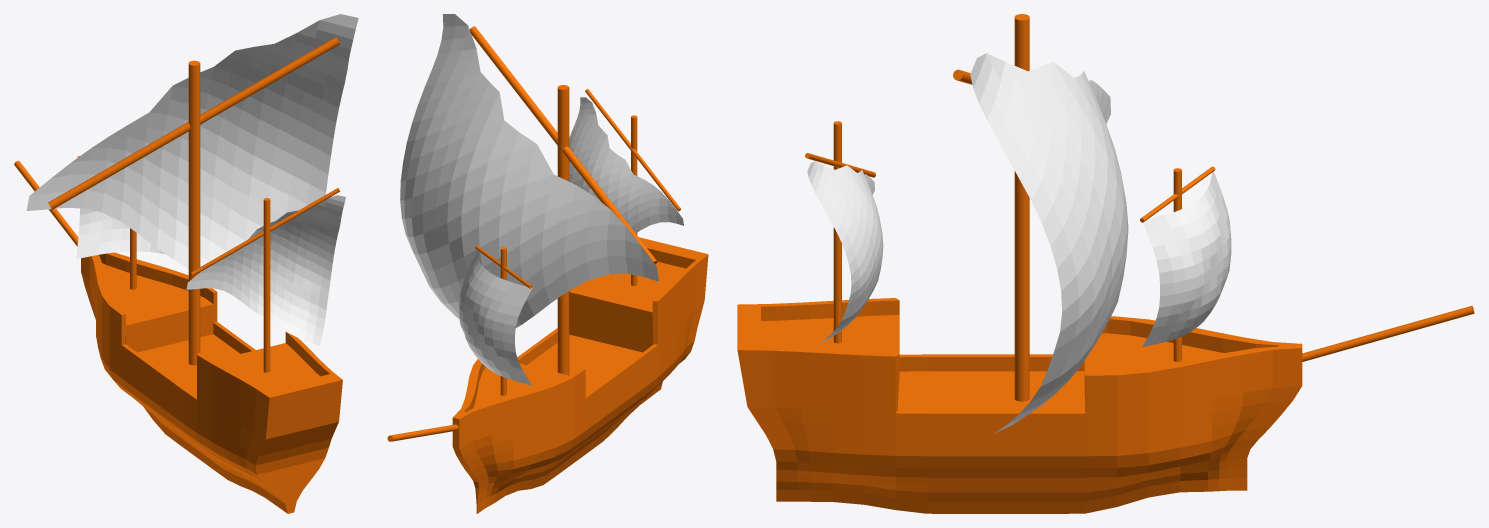
File: caravel2.glb
3 views of the same model, side by side, from view 1: azimuth 30°, elevation 25°; view 2: azimuth 150°, elevation 25°; view 3: azimuth 270°, elevation 25° (orthographic). The views are drawn at different scales.
Visible parts, largest first — view 1: Plane.001, Cube, Plane.002, Cylinder, Cylinder.004, Plane, Cylinder.002, Cylinder.006, Cylinder.003, Cylinder.001; view 2: Plane.001, Cube, Plane.002, Plane, Cylinder, Cylinder.004, Cylinder.006, Cylinder.003, Cylinder.002; view 3: Cube, Plane.001, Plane, Plane.002, Cylinder, Cylinder.003, Cylinder.002.
Part boxes in pixels (bbox=[...]): Plane.001: bbox=[26, 14, 358, 302]; Cube: bbox=[81, 252, 342, 513]; Plane.002: bbox=[186, 195, 345, 345]; Cylinder: bbox=[188, 60, 200, 365]; Cylinder.004: bbox=[48, 37, 339, 209]; Plane: bbox=[76, 208, 165, 258]; Cylinder.002: bbox=[263, 198, 270, 372]; Cylinder.006: bbox=[191, 188, 340, 275]; Cylinder.003: bbox=[14, 160, 78, 246]; Cylinder.001: bbox=[130, 228, 136, 289]; Plane.001: bbox=[400, 14, 658, 327]; Cube: bbox=[452, 237, 708, 513]; Plane.002: bbox=[569, 97, 683, 233]; Plane: bbox=[458, 251, 532, 385]; Cylinder: bbox=[557, 85, 569, 375]; Cylinder.004: bbox=[469, 26, 657, 264]; Cylinder.006: bbox=[585, 89, 680, 211]; Cylinder.003: bbox=[387, 424, 458, 441]; Cylinder.002: bbox=[631, 115, 637, 285]; Cube: bbox=[737, 298, 1302, 513]; Plane.001: bbox=[970, 53, 1128, 433]; Plane: bbox=[1142, 171, 1231, 347]; Plane.002: bbox=[807, 161, 883, 343]; Cylinder: bbox=[1014, 14, 1029, 401]; Cylinder.003: bbox=[1302, 306, 1474, 361]; Cylinder.002: bbox=[833, 121, 841, 343].
Bounding box in the file's own units: 5.98 × 8.38 × 10.5.
Materials: 11 (11 with a texture image).
